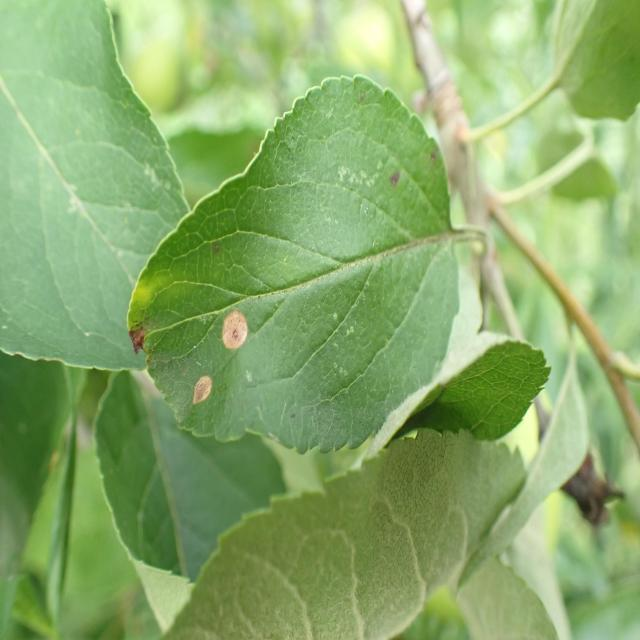Black Rot: (220, 294, 251, 362), (184, 362, 218, 419)
